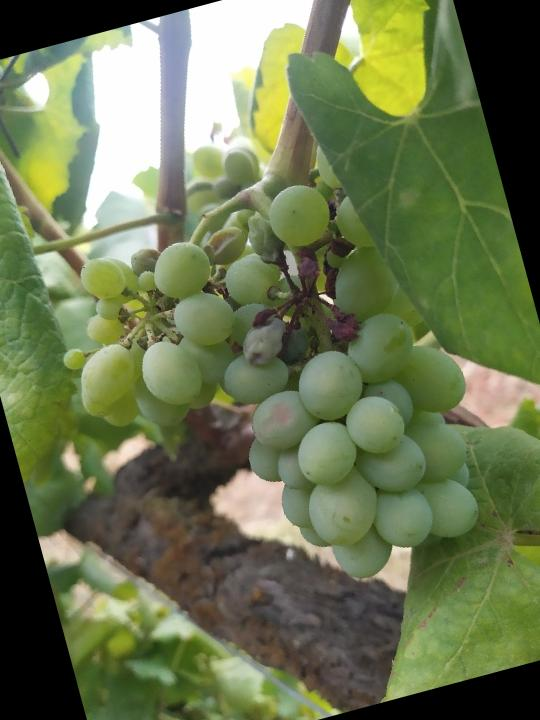grape: (41, 152, 512, 643)
